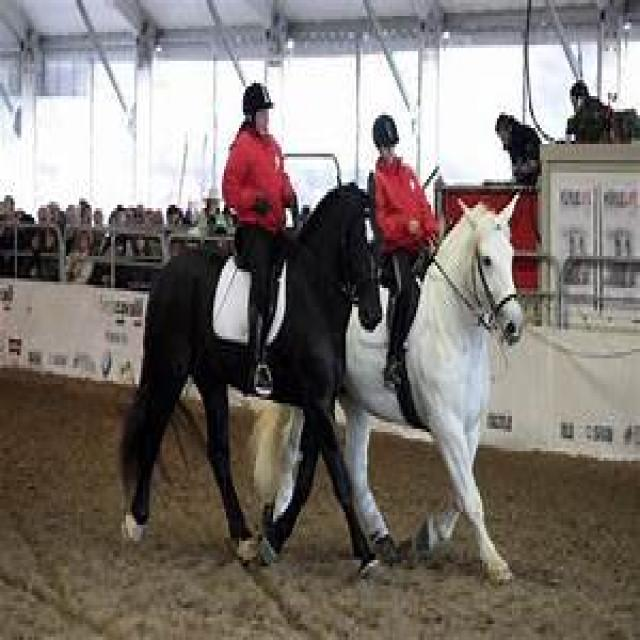horse: (120, 185, 383, 549), (267, 192, 524, 560)
